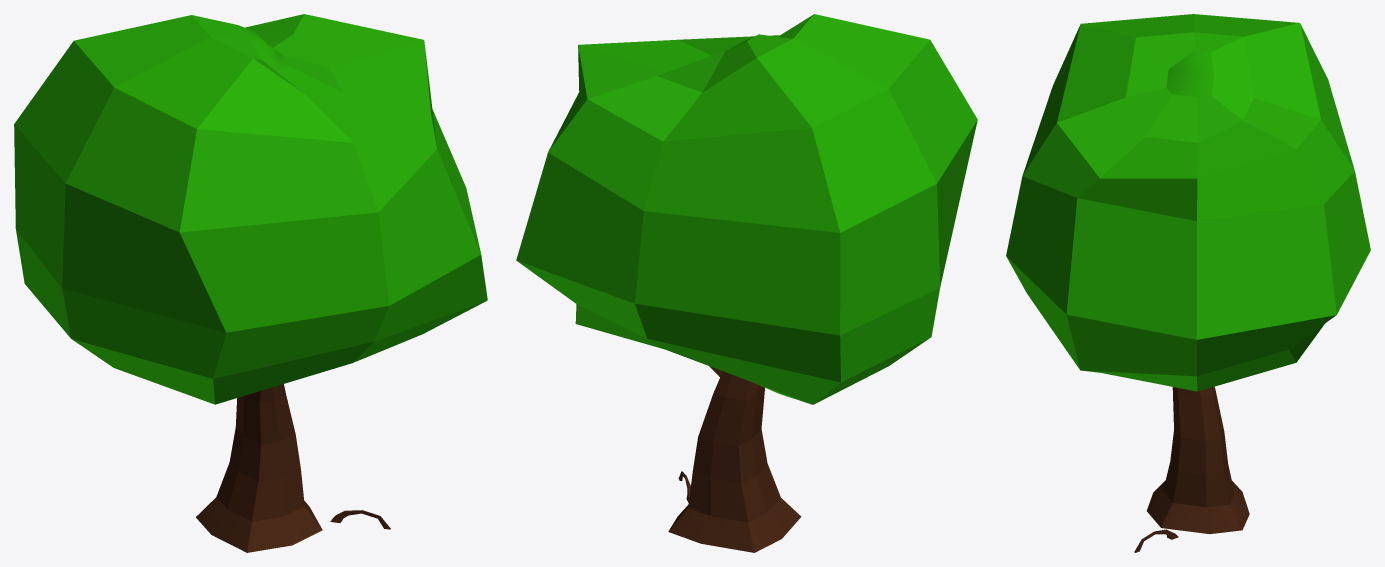
File: Tree 1.FBX
3 renders of one model, left to right at view 1: azimuth 30°, elevation 25°; view 2: azimuth 150°, elevation 25°; view 3: azimuth 270°, elevation 25°, orthographic. The views are drawn at different scales.
Parts seen in each view (by area): view 1: Feuilles 1, Tronc 1; view 2: Feuilles 1, Tronc 1; view 3: Feuilles 1, Tronc 1.
Boxes of the visible parts, box(x1,y1,x2,y2) form: Feuilles 1: box(14, 14, 487, 404); Tronc 1: box(196, 384, 322, 552); Feuilles 1: box(516, 14, 977, 404); Tronc 1: box(668, 366, 801, 552); Feuilles 1: box(1006, 14, 1370, 391); Tronc 1: box(1147, 386, 1249, 534).
Bounding box in the file's own units: 235 × 279 × 203.
